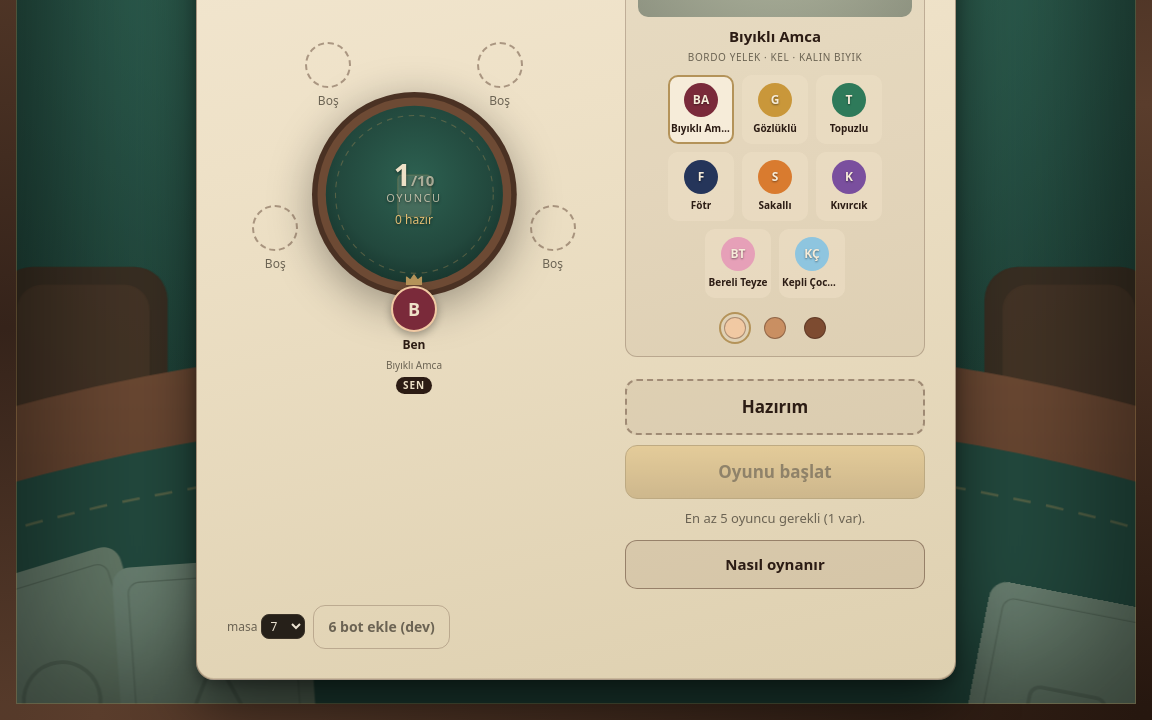
DEV lobisinde bot ekleme düğmesi ve masa boyu seçimi görünür (D19)
The image size is (1152, 720).
(page scrolled)
Check: the button "6 bot ekle (dev)" is shown, box [313,604,450,648]
Select "9" in the dropdown named "Bot masası boyu" at (283,626), box [261,614,305,639]
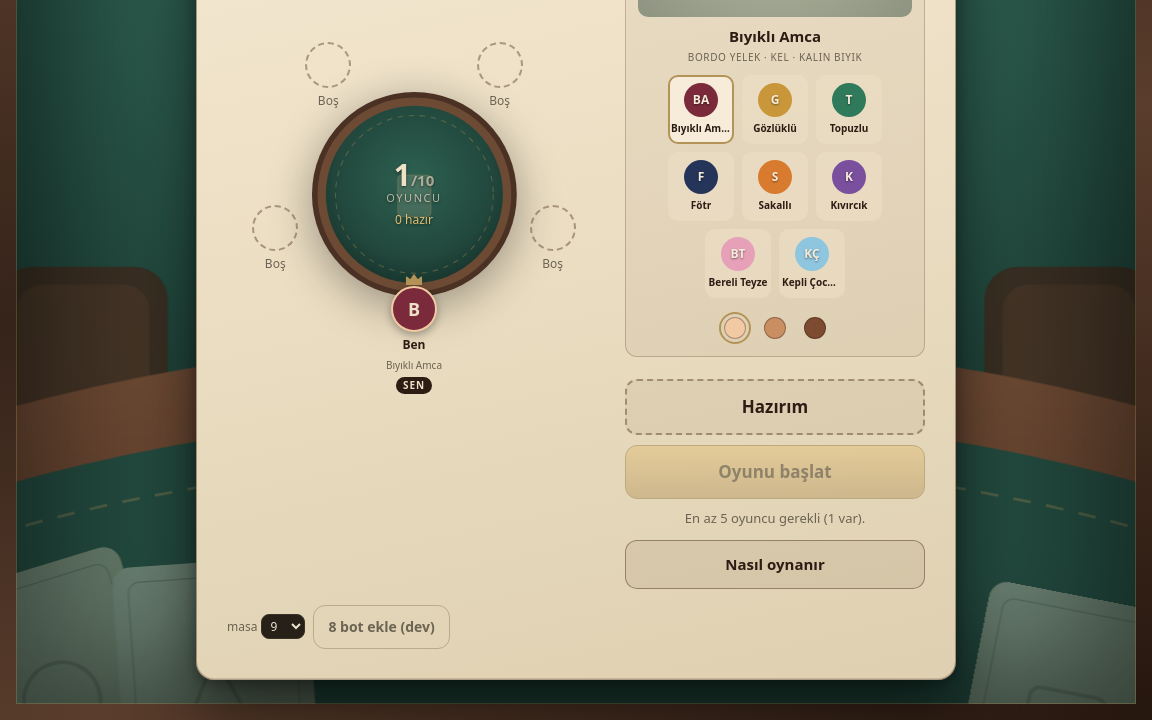
Check: the button "8 bot ekle (dev)" is shown, box [313,604,450,648]
